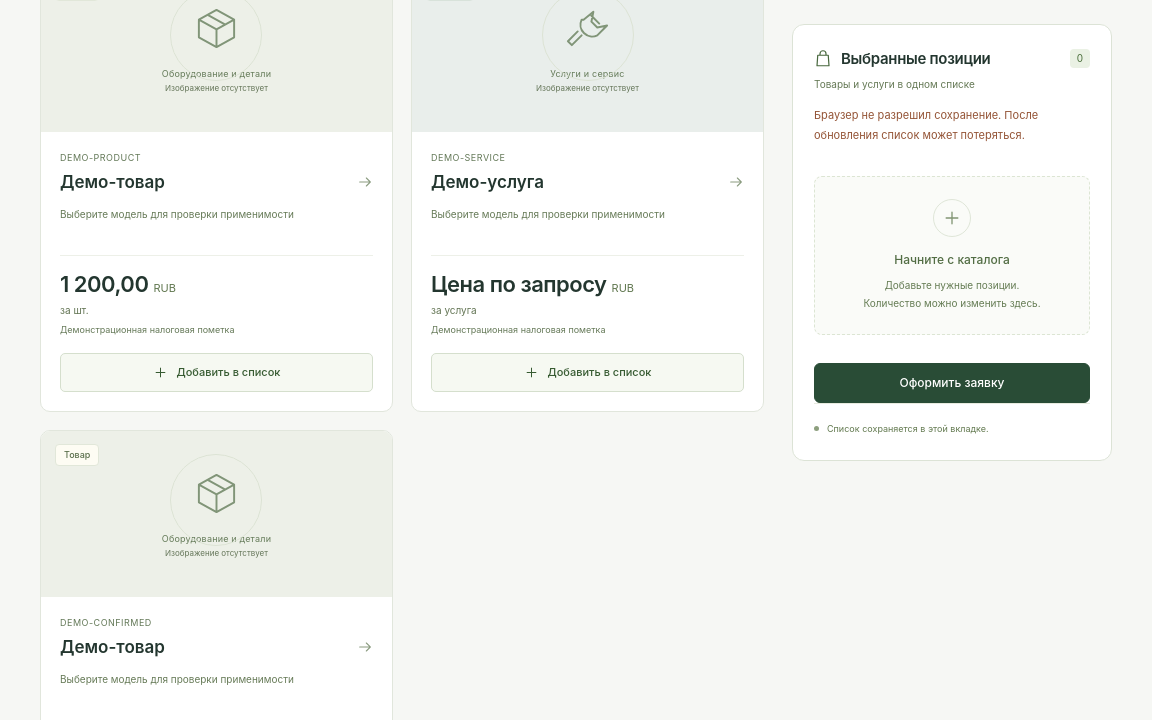
Test: catalog UI on approved fixtures › remains usable when browser storage is unavailable
This screenshot has width=1152, height=720.
(page scrolled)
Click the button "Добавить в список" below "DEMO-PRODUCT".
click(216, 373)  # box [60, 353, 373, 392]
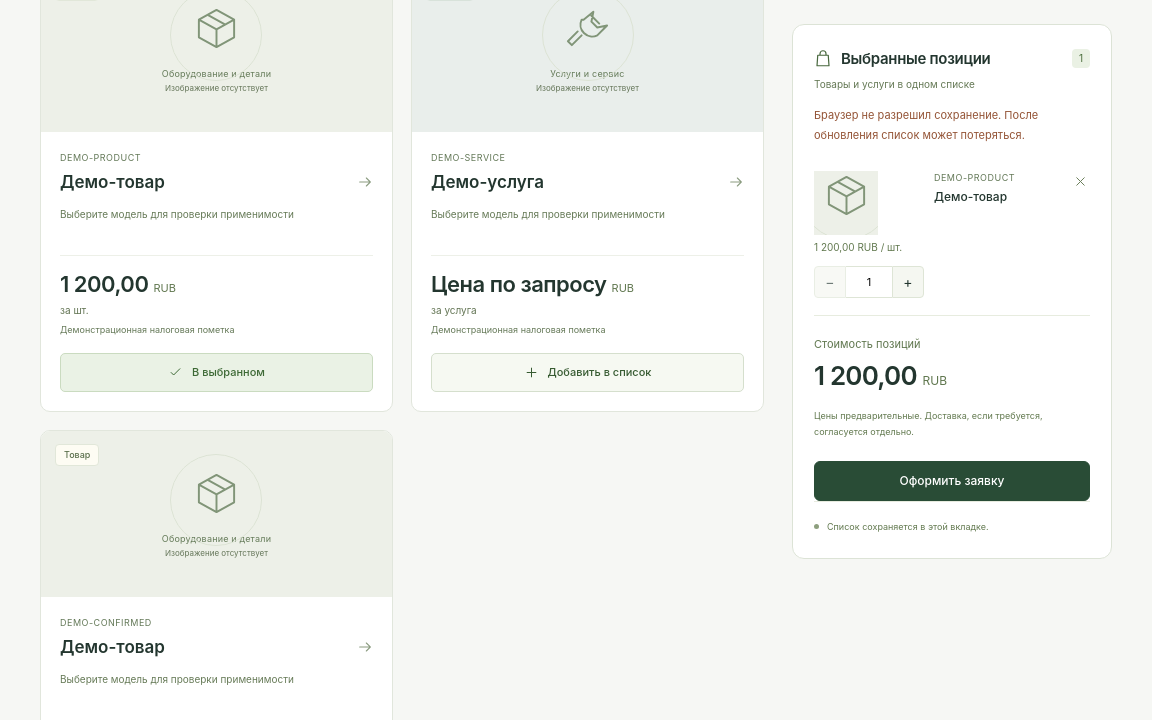
Expected: the message shows "не разрешил сохранение", [814, 108, 1038, 142]
Expected: the button "Демо-товар" below "Товары и услуги в одном списке" is shown, [934, 185, 1007, 211]
